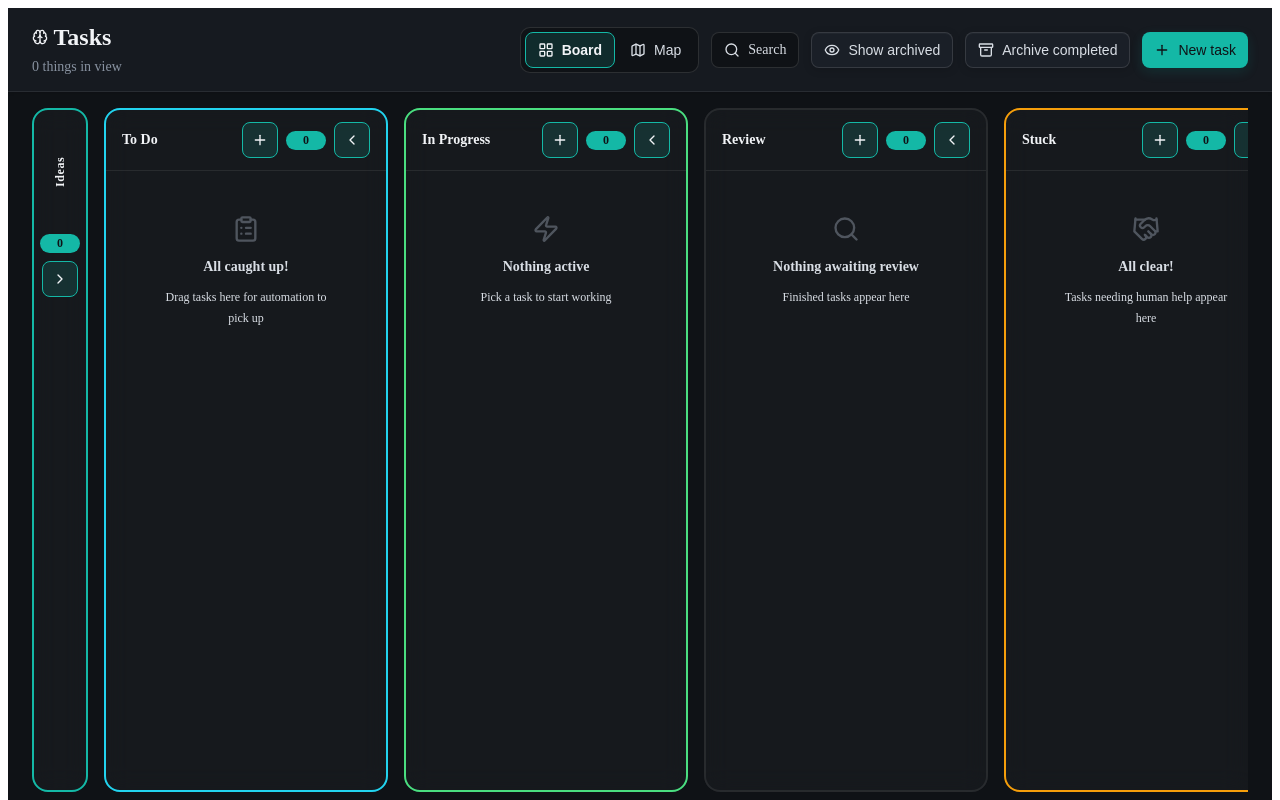
Test: bulk archive-completed of the filtered scope (E3) › Escape cancels the dialog without archiving
This screenshot has width=1280, height=800.
Step 1. Click the button "Archive completed" → (1048, 50), box [965, 32, 1130, 68]
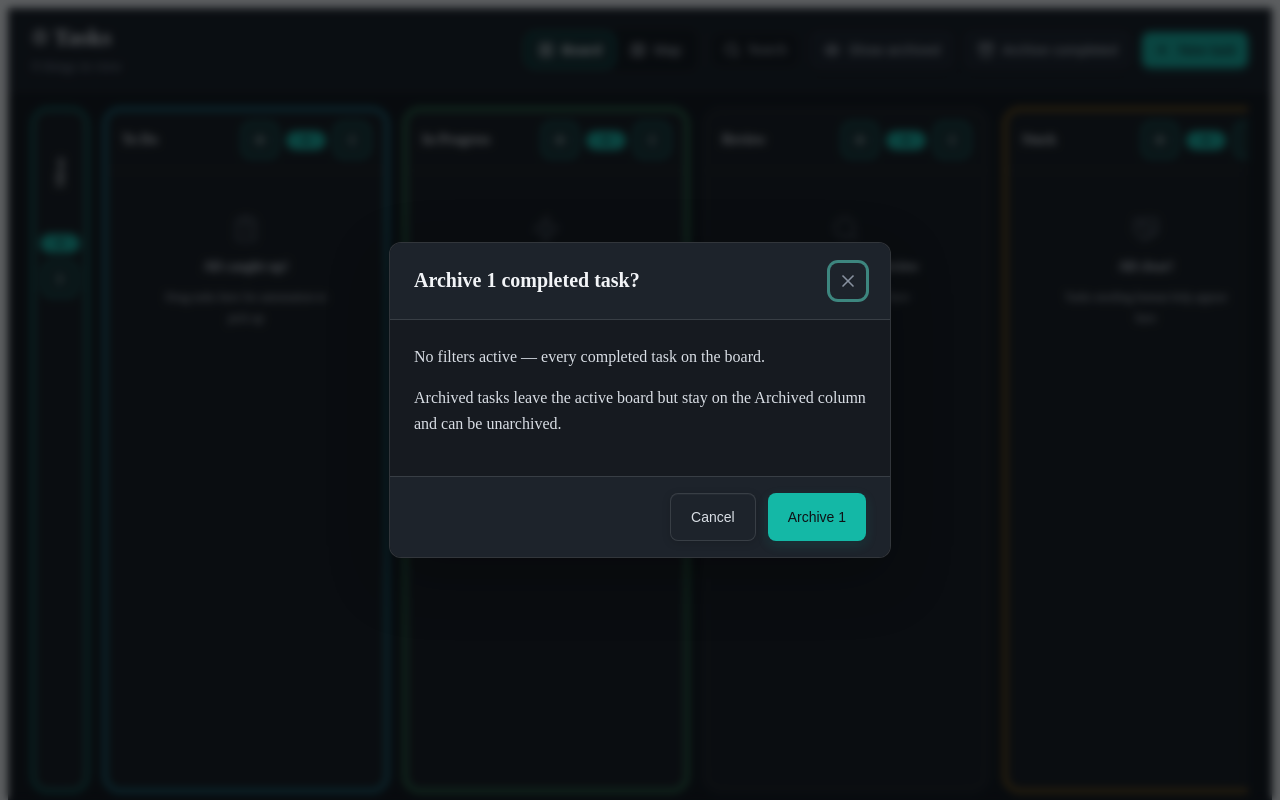
Step 2. Press Escape in the dialog, box [389, 242, 891, 558]
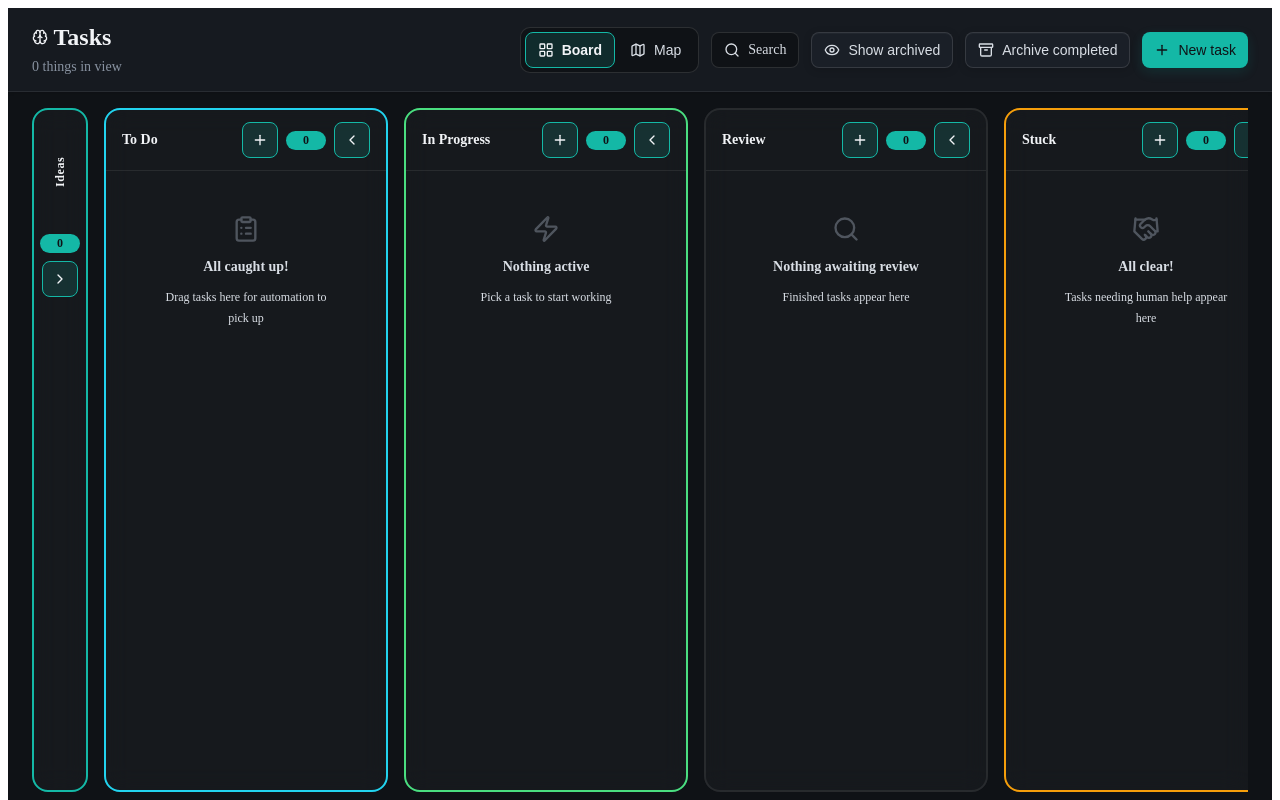
Now the dialog is gone
